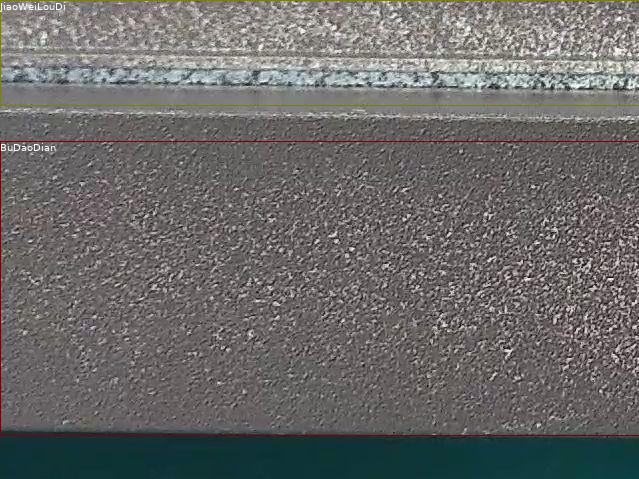BuDaoDian: (0, 141, 639, 435)
JiaoWeiLouDi: (0, 0, 639, 105)
